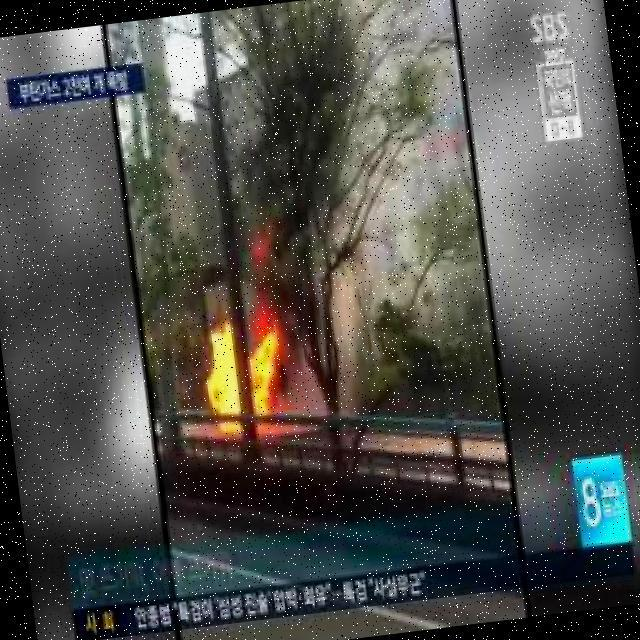Fire: (192, 331, 297, 440)
